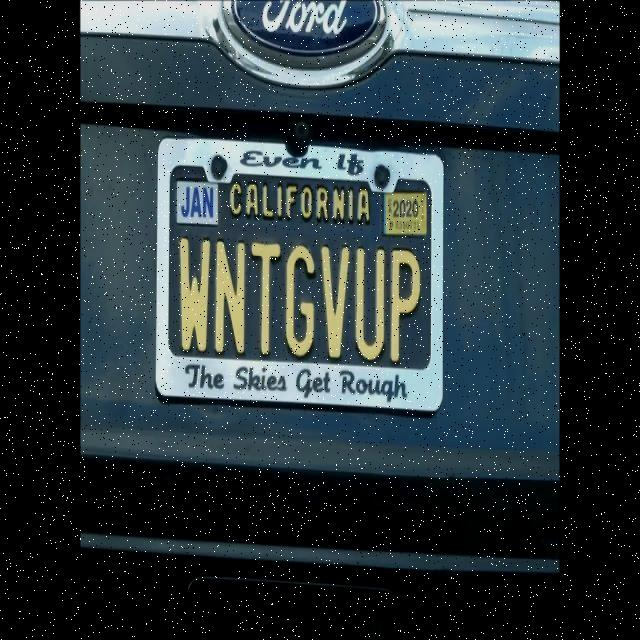licenseplate: (154, 134, 447, 422)
